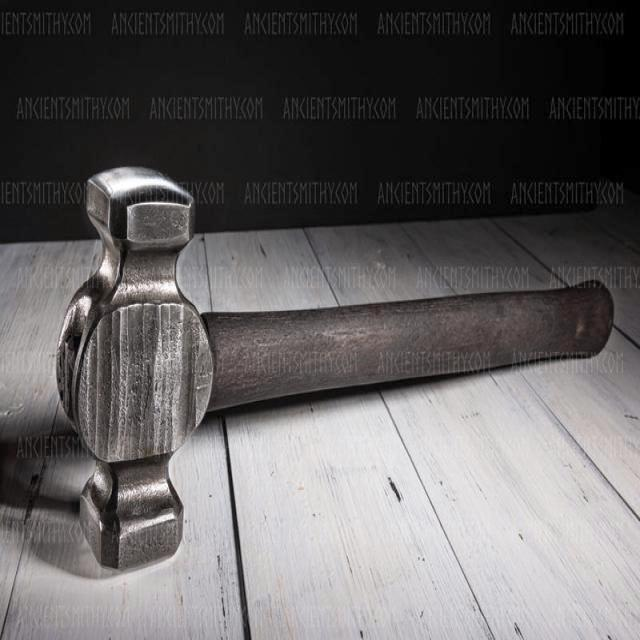hammer: (45, 162, 620, 584)
